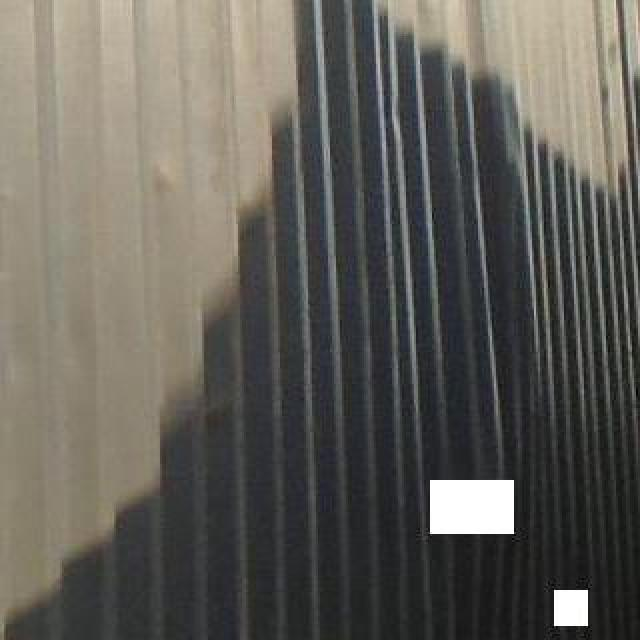dent: (465, 101, 555, 459)
